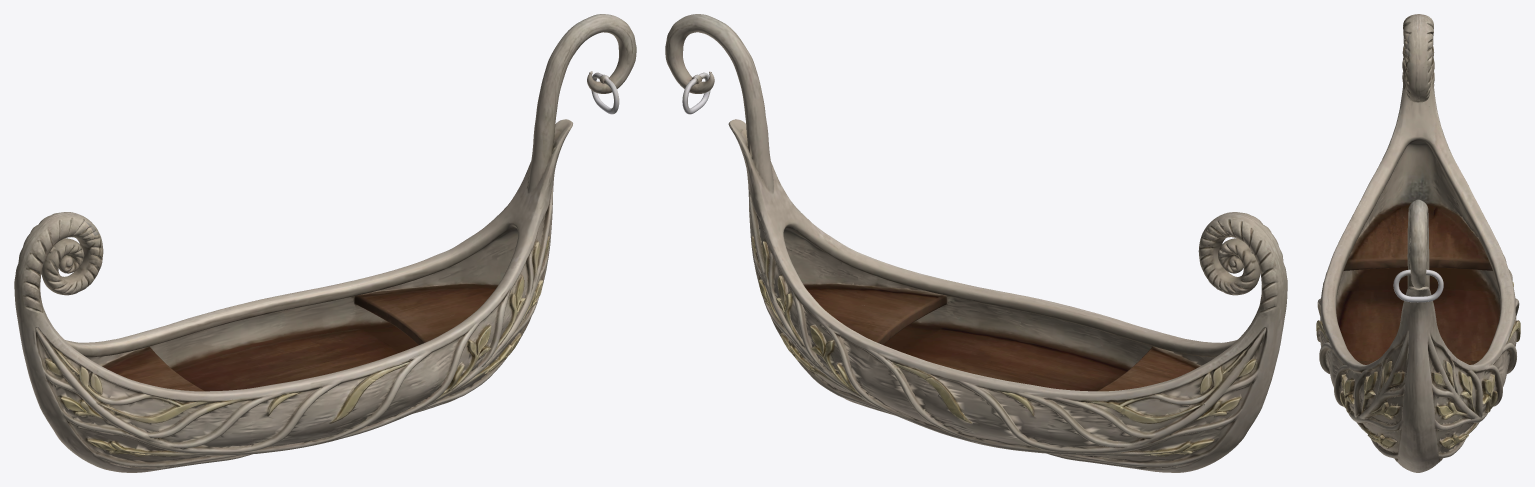
File: leaf_boat.glb
3 renders of one model, left to right at view 1: azimuth 30°, elevation 25°; view 2: azimuth 150°, elevation 25°; view 3: azimuth 270°, elevation 25°, orthographic. The views are drawn at different scales.
Visible parts, largest first — view 1: tripo_node_a8cef9a8-8bcb-4bdf-b4b6-cf6b28671711; view 2: tripo_node_a8cef9a8-8bcb-4bdf-b4b6-cf6b28671711; view 3: tripo_node_a8cef9a8-8bcb-4bdf-b4b6-cf6b28671711.
Part boxes in pixels (bbox=[...]): tripo_node_a8cef9a8-8bcb-4bdf-b4b6-cf6b28671711: bbox=[14, 14, 636, 472]; tripo_node_a8cef9a8-8bcb-4bdf-b4b6-cf6b28671711: bbox=[665, 14, 1287, 472]; tripo_node_a8cef9a8-8bcb-4bdf-b4b6-cf6b28671711: bbox=[1316, 14, 1520, 472].
Bounding box in the file's own units: 0.9794 × 0.5256 × 0.2894.
Materials: 1 (1 with a texture image).
